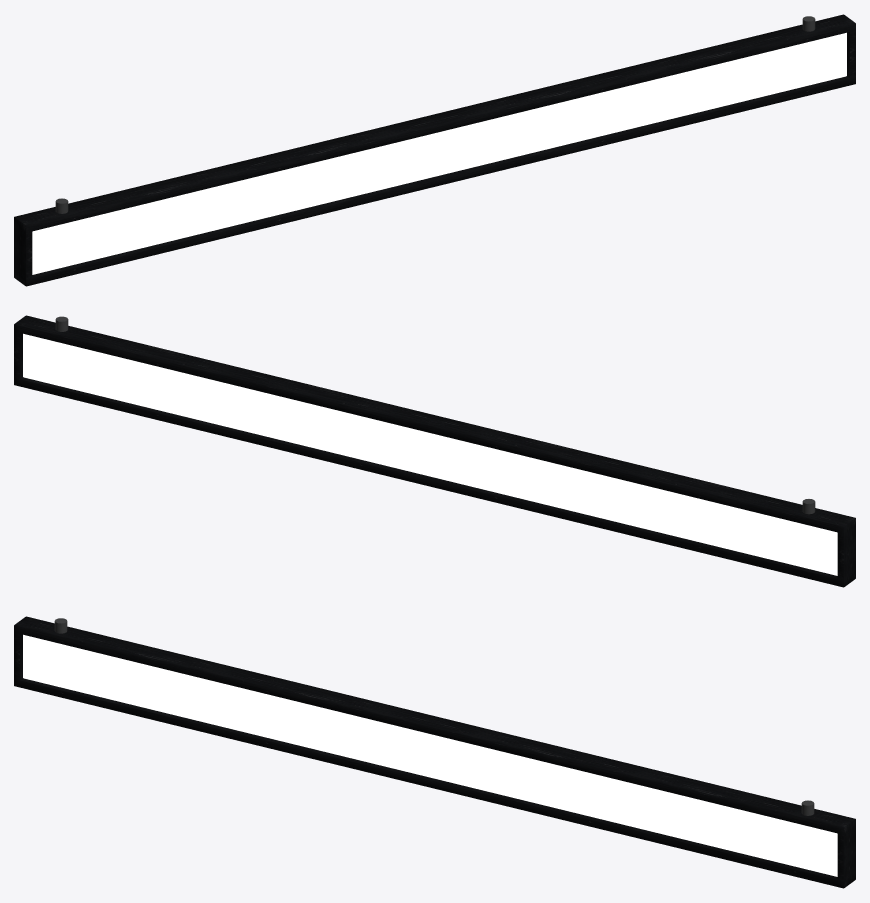
The model's file is SignBoards_1.fbx.
3 views of the same model, one above another, from view 1: azimuth 30°, elevation 25°; view 2: azimuth 150°, elevation 25°; view 3: azimuth 330°, elevation 25° (orthographic).
Parts seen in each view (by area): view 1: SignBoards_1; view 2: SignBoards_1; view 3: SignBoards_1.
Part boxes in pixels (x1,y1,x2,y2): SignBoards_1: [14, 14, 855, 286]; SignBoards_1: [14, 315, 855, 587]; SignBoards_1: [14, 616, 855, 888].
Bounding box in the file's own units: 3.4 × 0.28 × 0.0864.
